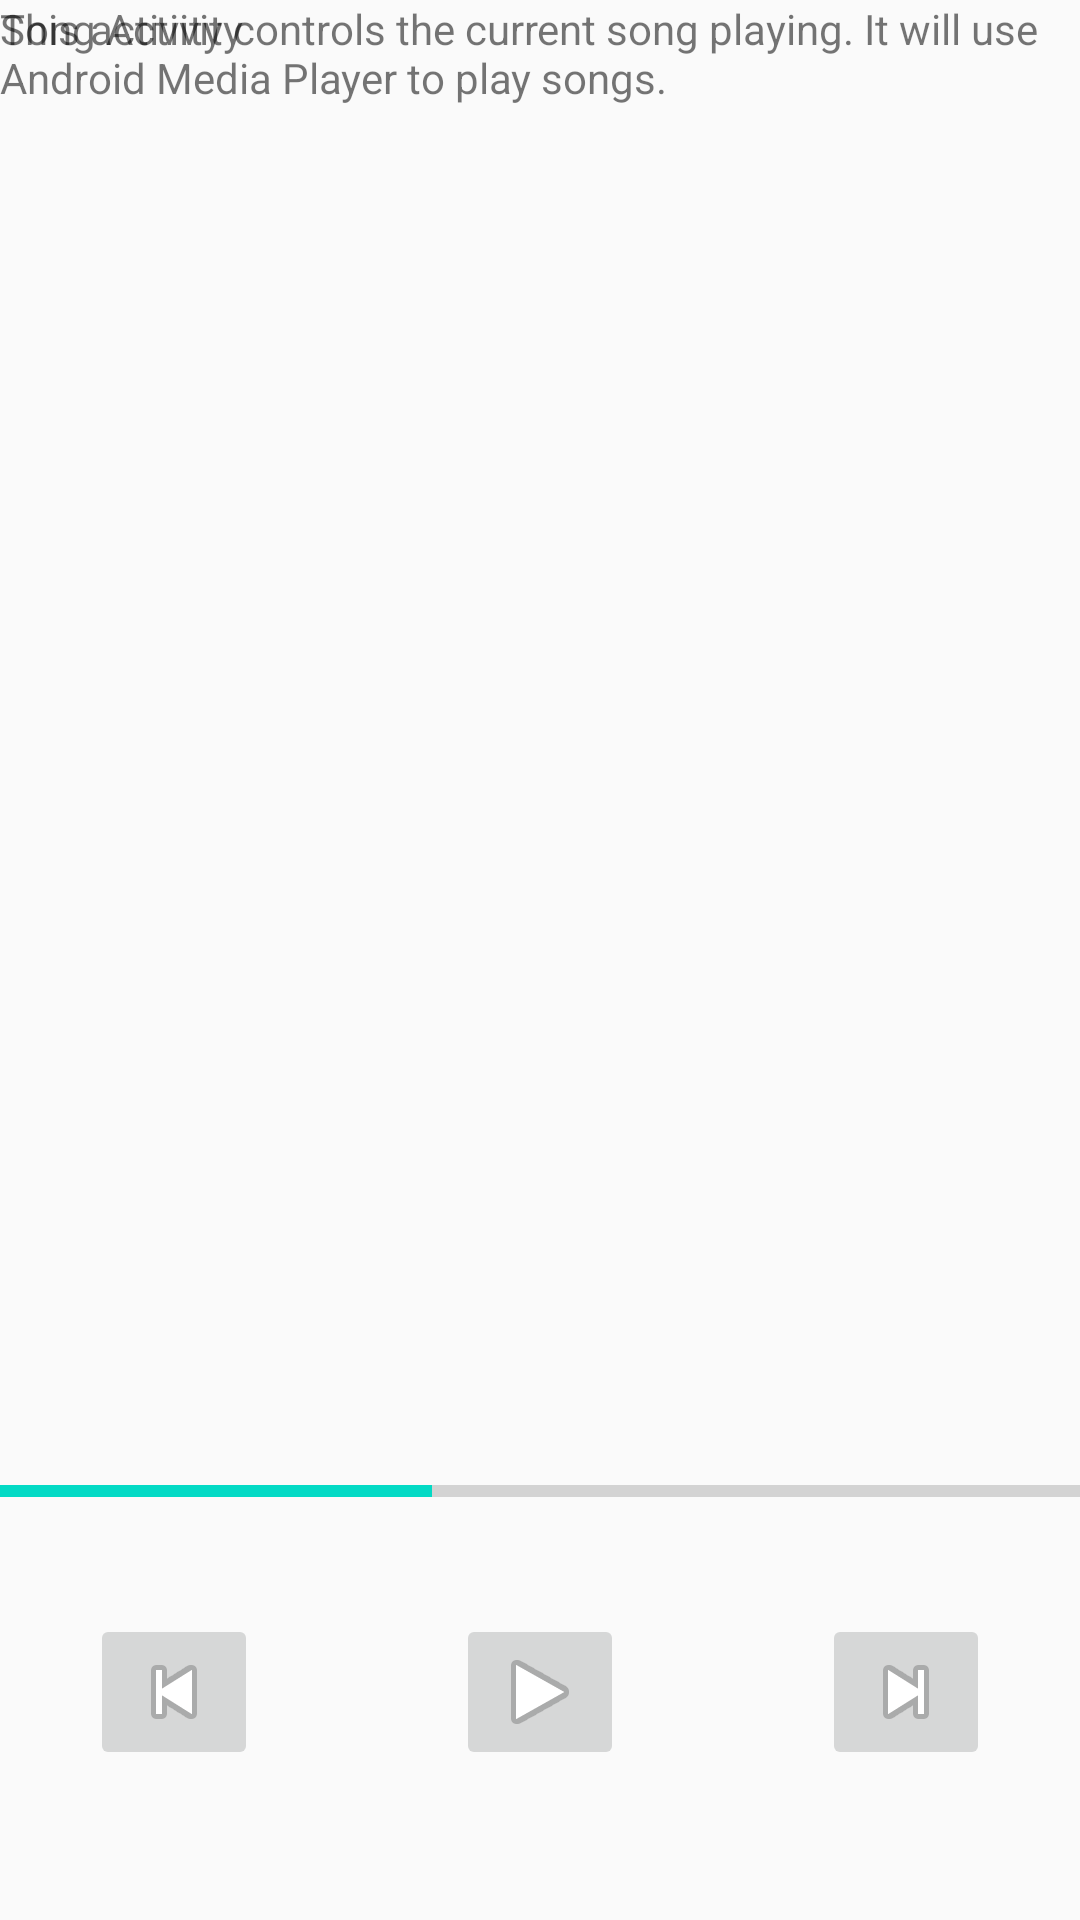

Locate icon controls on the screen. Image size 1080 x 1920, boxes as (x1=x1, y1=y1, x2=x2, y2=y2).
next: (x1=834, y1=1632, x2=978, y2=1752)
previous: (x1=102, y1=1632, x2=246, y2=1752)
